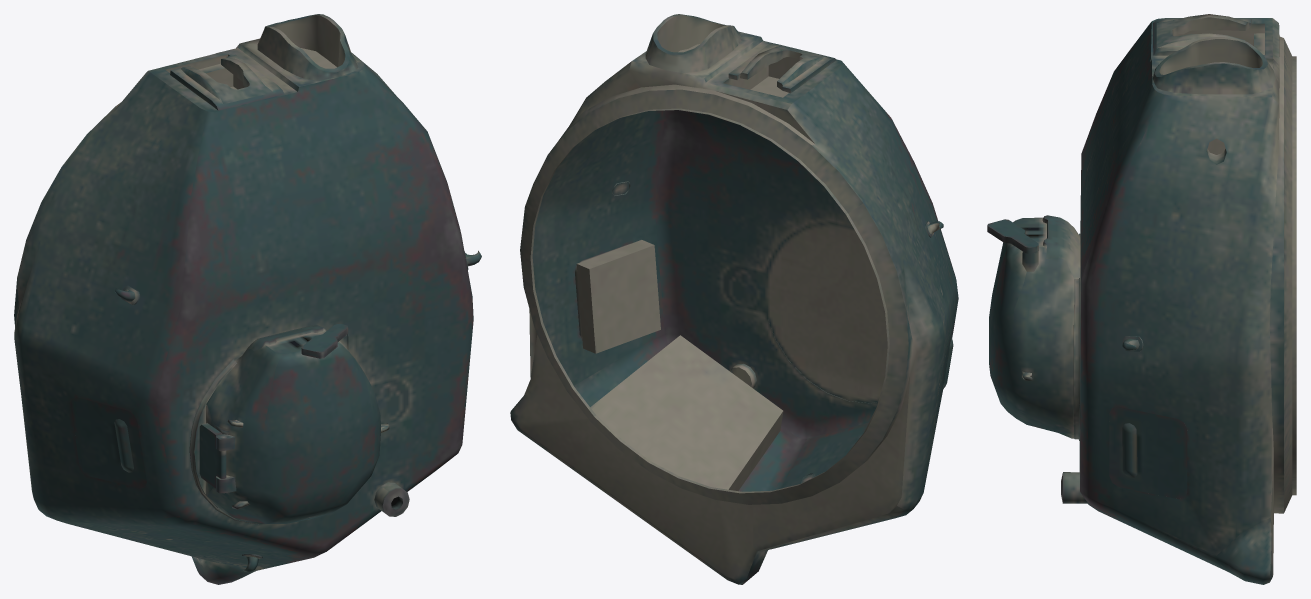
The model's file is Turret_02.glb.
3 renders of one model, left to right at view 1: azimuth 30°, elevation 25°; view 2: azimuth 150°, elevation 25°; view 3: azimuth 270°, elevation 25°, orthographic. The views are drawn at different scales.
Parts seen in each view (by area): view 1: set_0_group_0; view 2: set_0_group_0; view 3: set_0_group_0.
Part boxes in pixels (bbox=[...]): set_0_group_0: bbox=[14, 14, 481, 584]; set_0_group_0: bbox=[510, 14, 958, 584]; set_0_group_0: bbox=[987, 14, 1296, 584].
Bounding box in the file's own units: 1.46 × 1.75 × 0.8736.
Materials: 1 (1 with a texture image).
